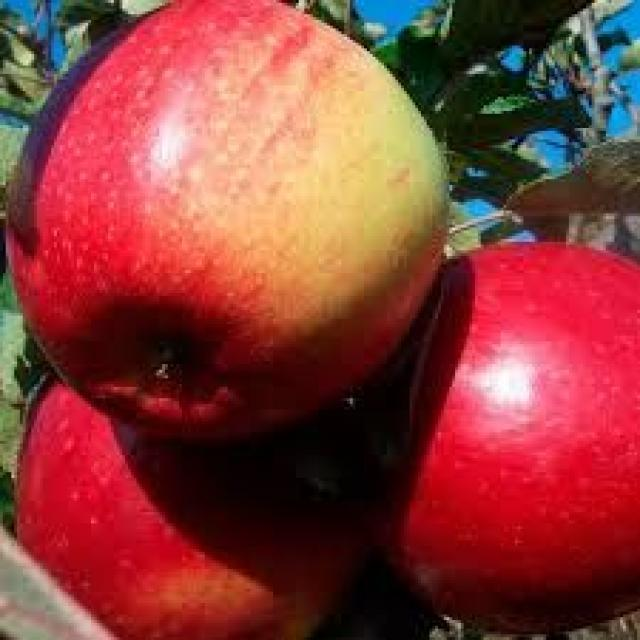Fresh Apple: (1, 0, 446, 438), (360, 240, 640, 632), (13, 368, 370, 640)
